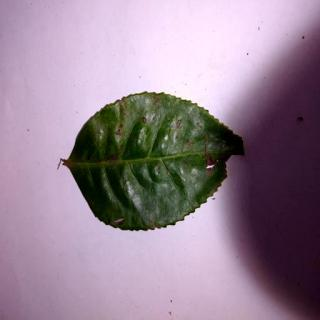Bird Eye Spot: (64, 93, 249, 234)
